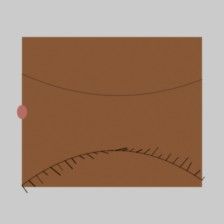corneal_ulcer: (73, 96, 130, 141)
